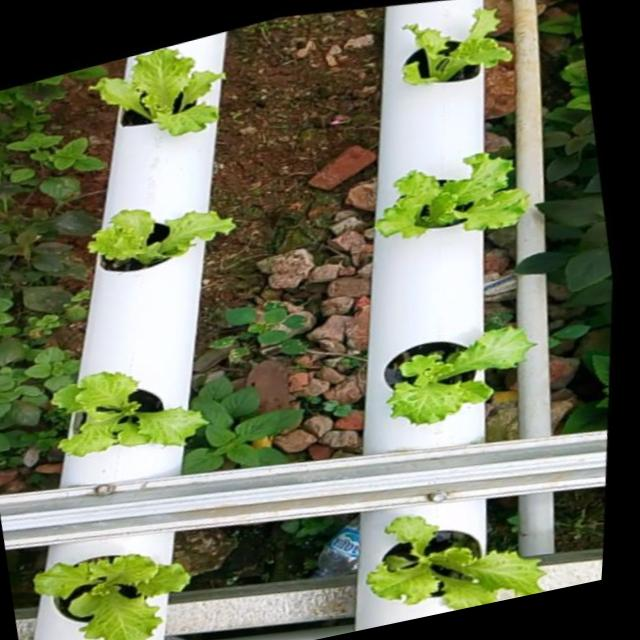Baby: (42, 528, 197, 640), (375, 506, 554, 601), (385, 325, 537, 423), (59, 365, 217, 451), (377, 151, 532, 236), (93, 47, 229, 134), (91, 208, 239, 270), (406, 8, 515, 84)
